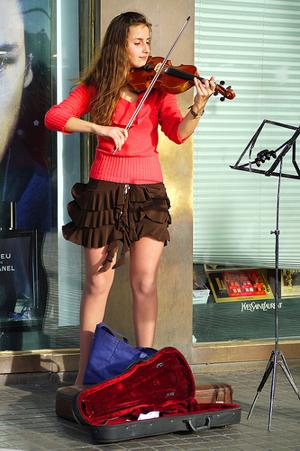person: (44, 13, 216, 390)
